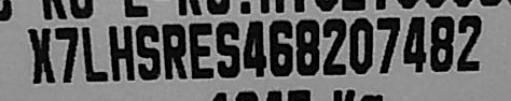letter: (105, 22, 136, 85), (25, 24, 57, 85), (78, 24, 109, 85), (453, 10, 483, 73), (372, 14, 402, 75), (212, 19, 242, 80), (292, 17, 321, 80), (186, 19, 215, 80), (160, 21, 189, 82), (266, 17, 294, 80), (426, 15, 456, 72), (134, 23, 164, 80), (401, 13, 428, 76), (240, 18, 267, 81), (347, 15, 374, 76), (321, 17, 348, 78), (52, 26, 80, 83)
